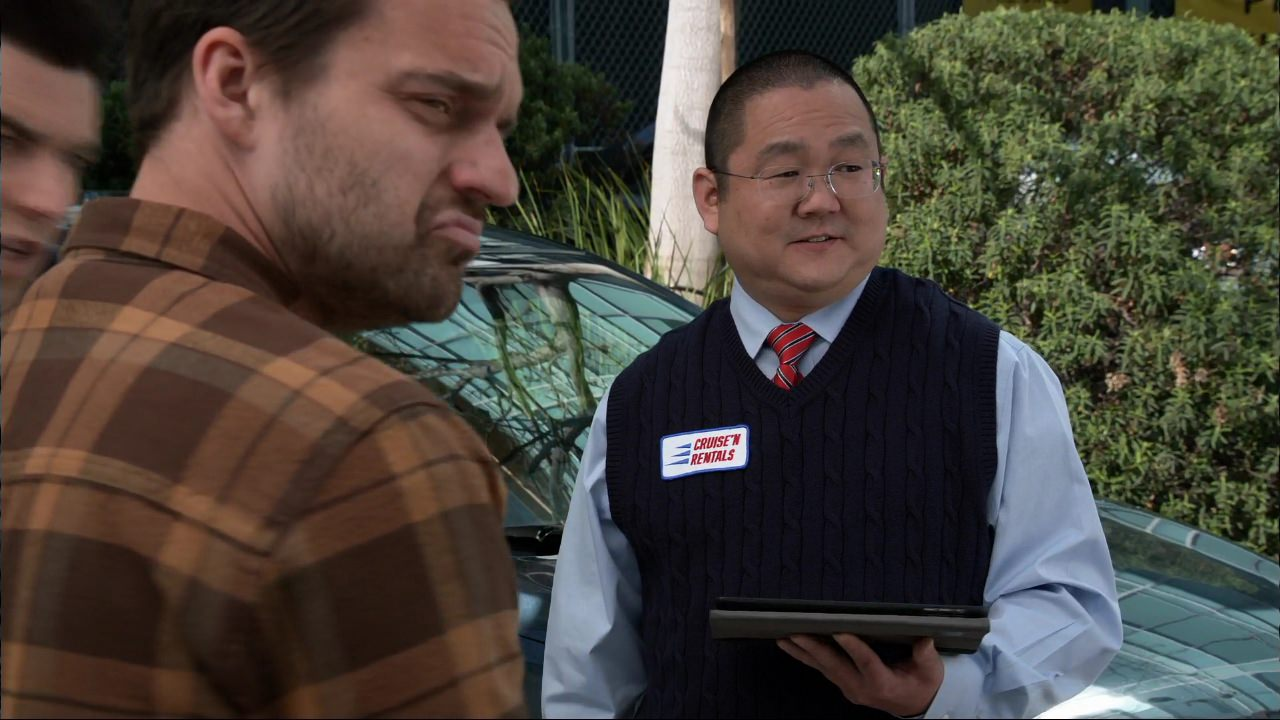person: (565, 52, 1126, 718), (79, 6, 542, 717), (1, 2, 91, 300)
